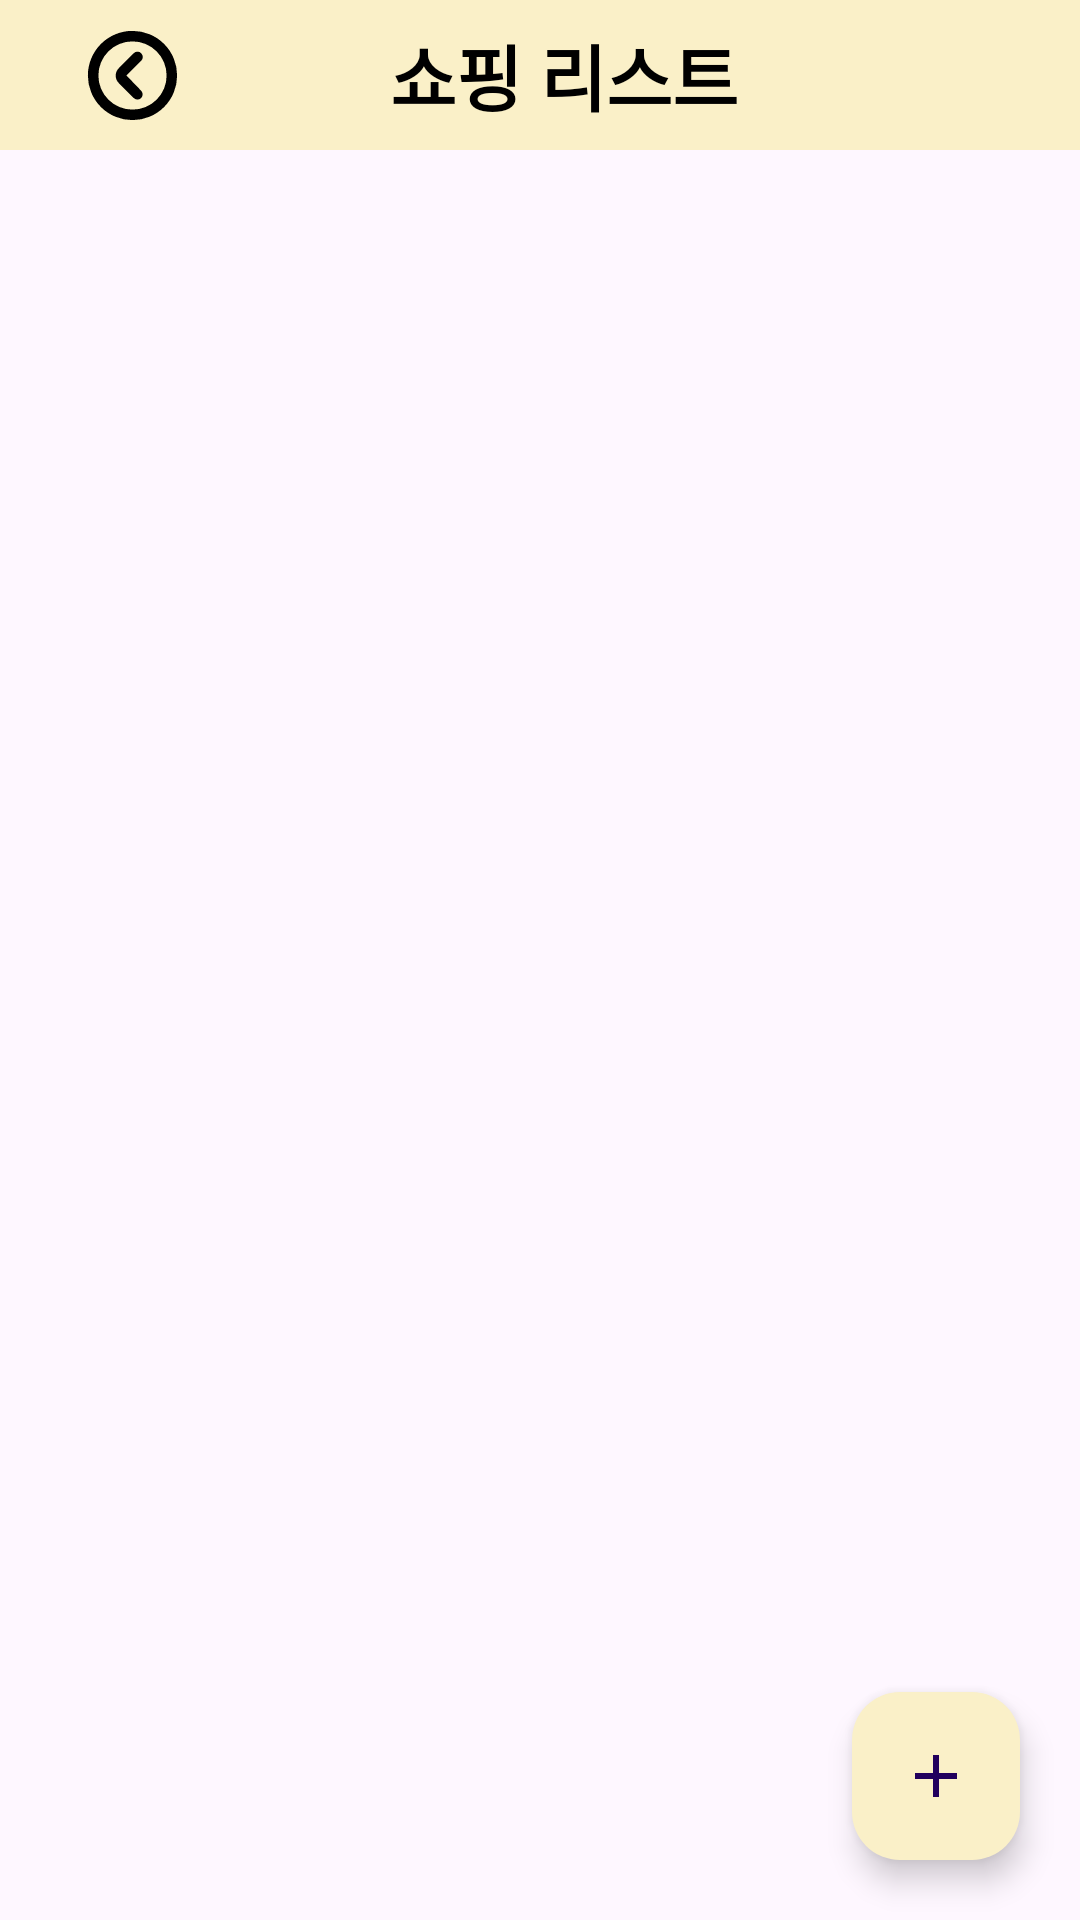

Named icons in this screenshot (1080w x 1920h) and their bounding boxes, [x1,y1,x2,y2]:
쇼핑리스트 추가: [852,1692,1020,1860]
